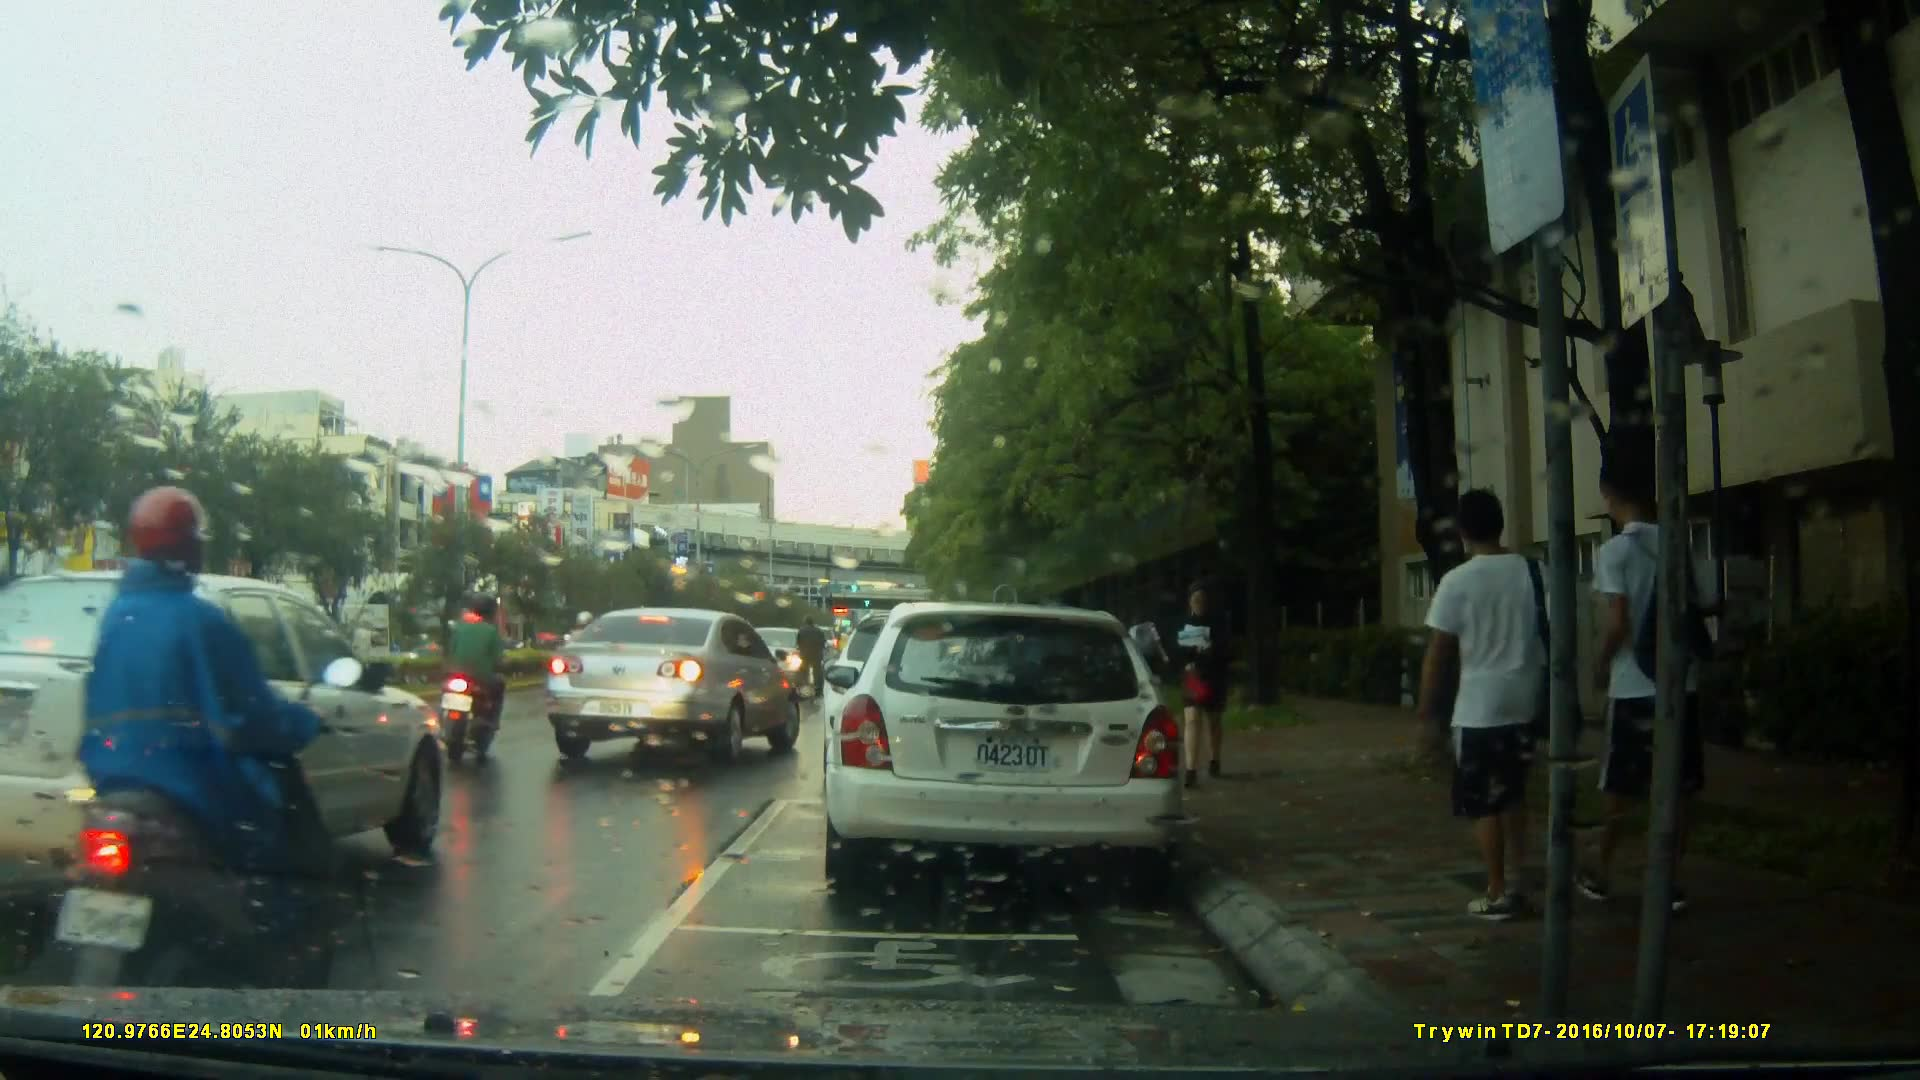pedestrian: (1423, 477, 1582, 928), (1578, 448, 1709, 926), (1171, 567, 1246, 792), (1122, 604, 1164, 732)
rider: (58, 485, 365, 1002), (441, 586, 523, 761), (560, 606, 602, 726), (793, 612, 826, 710)
vehicle: (1, 566, 453, 919), (820, 602, 1188, 898), (542, 606, 806, 768), (726, 614, 828, 695)
